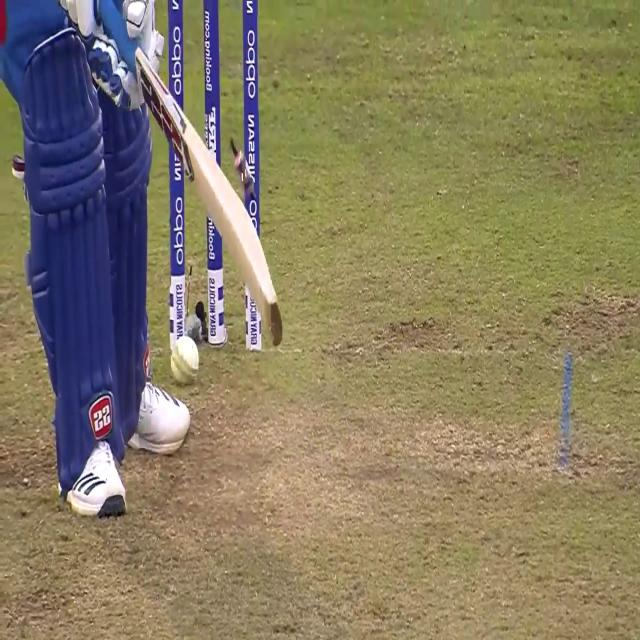ball: (169, 336, 199, 387)
